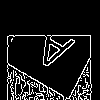A: (25, 25, 76, 82)
